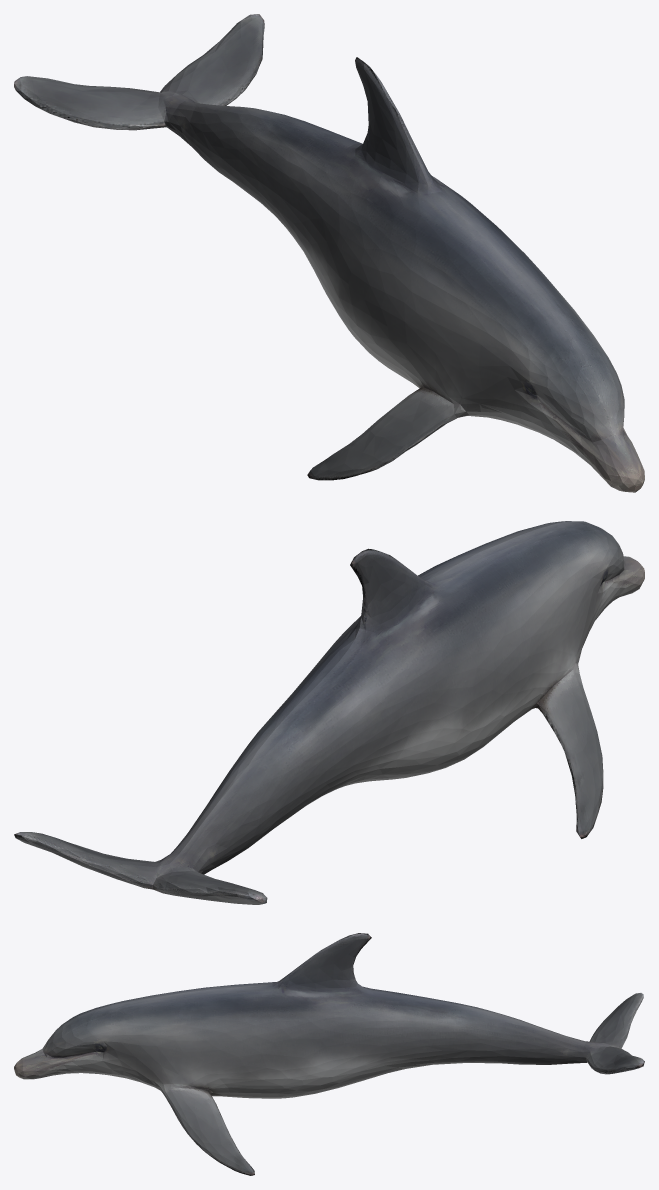
Rendered from dolphin.glb.
The picture shows the model from 3 angles, top to bottom: view 1: azimuth 30°, elevation 25°; view 2: azimuth 150°, elevation 25°; view 3: azimuth 270°, elevation 25°; orthographic projection. The views are drawn at different scales.
Visible parts, largest first — view 1: geometry_0; view 2: geometry_0; view 3: geometry_0.
Part boxes in pixels (x1,y1,x2,y2): geometry_0: (14, 14, 644, 492); geometry_0: (14, 521, 644, 904); geometry_0: (14, 933, 644, 1175).
Size of the model in its own units: 0.3249 by 0.3486 by 1.
Materials: 1 (1 with a texture image).
